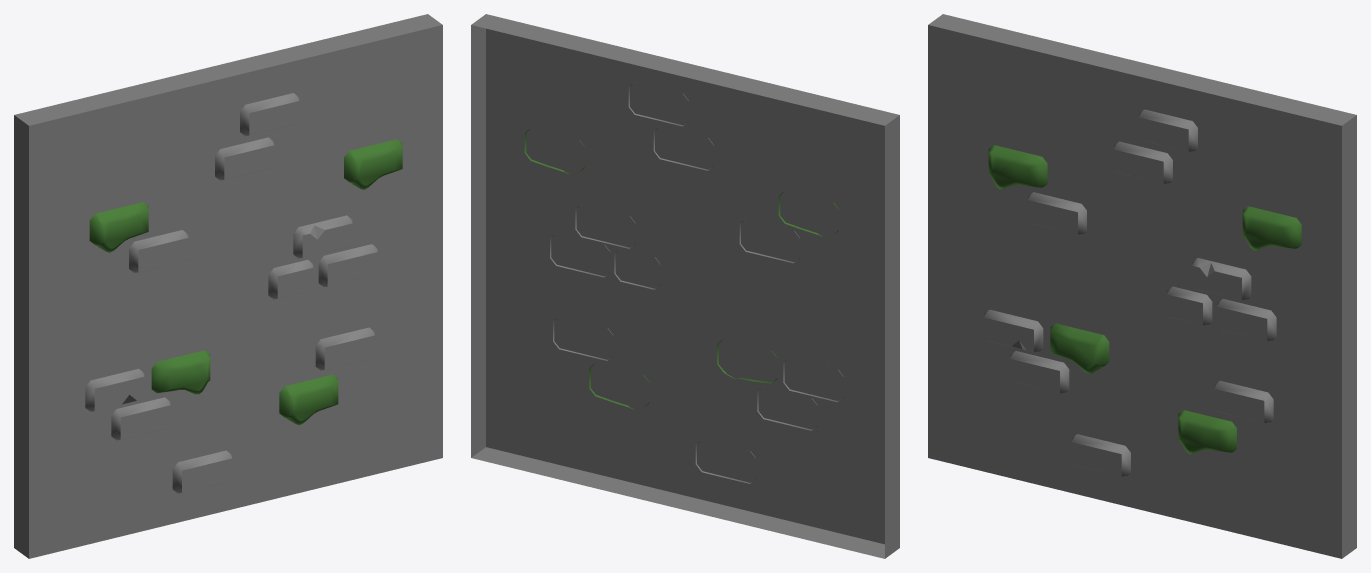
Rendered from wall_mossy_middle.fbx.
The picture shows the model from 3 angles, left to right: view 1: azimuth 30°, elevation 25°; view 2: azimuth 150°, elevation 25°; view 3: azimuth 330°, elevation 25°; orthographic projection.
Visible parts, largest first — view 1: wall_mossy.middle; view 2: wall_mossy.middle; view 3: wall_mossy.middle.
Part boxes in pixels (x1,y1,x2,y2): wall_mossy.middle: (14,14,442,558); wall_mossy.middle: (471,14,899,558); wall_mossy.middle: (928,14,1356,558).
Size of the model in its own units: 400 by 400 by 34.81.
